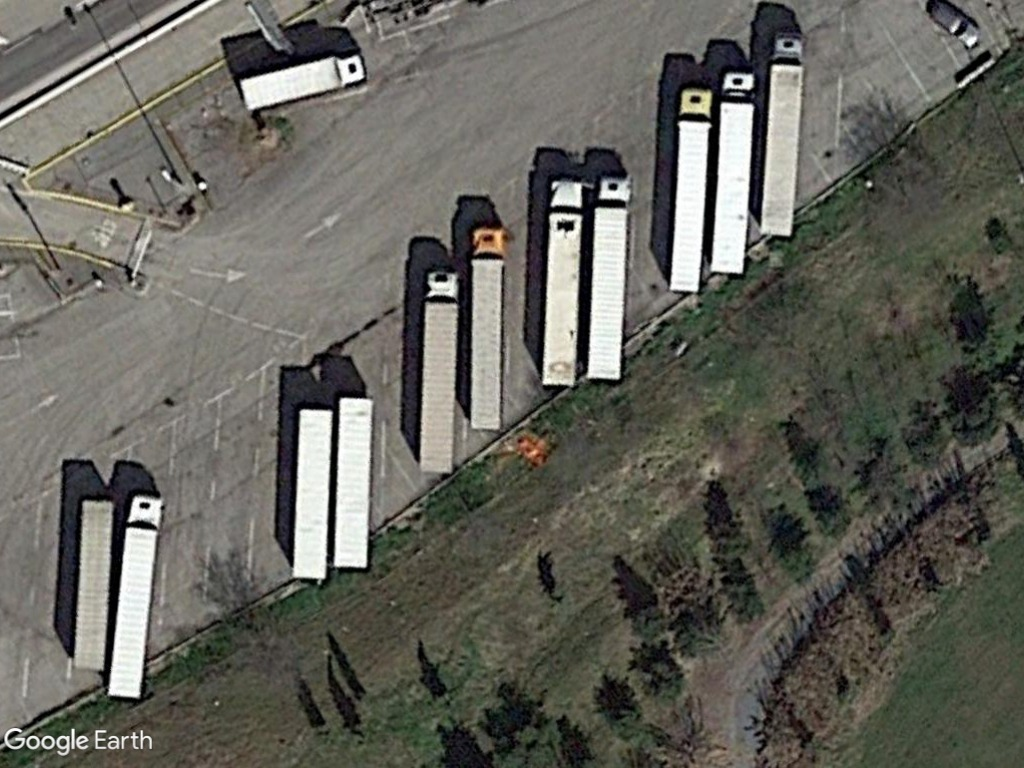car: (922, 0, 986, 51)
longvehicle: (102, 488, 170, 705), (753, 25, 809, 244), (582, 170, 637, 388), (707, 63, 759, 280), (538, 172, 587, 397), (667, 81, 714, 299), (464, 220, 511, 436), (416, 263, 463, 478), (332, 390, 378, 576), (288, 401, 334, 583), (74, 493, 113, 678)
truck: (234, 46, 368, 115)
